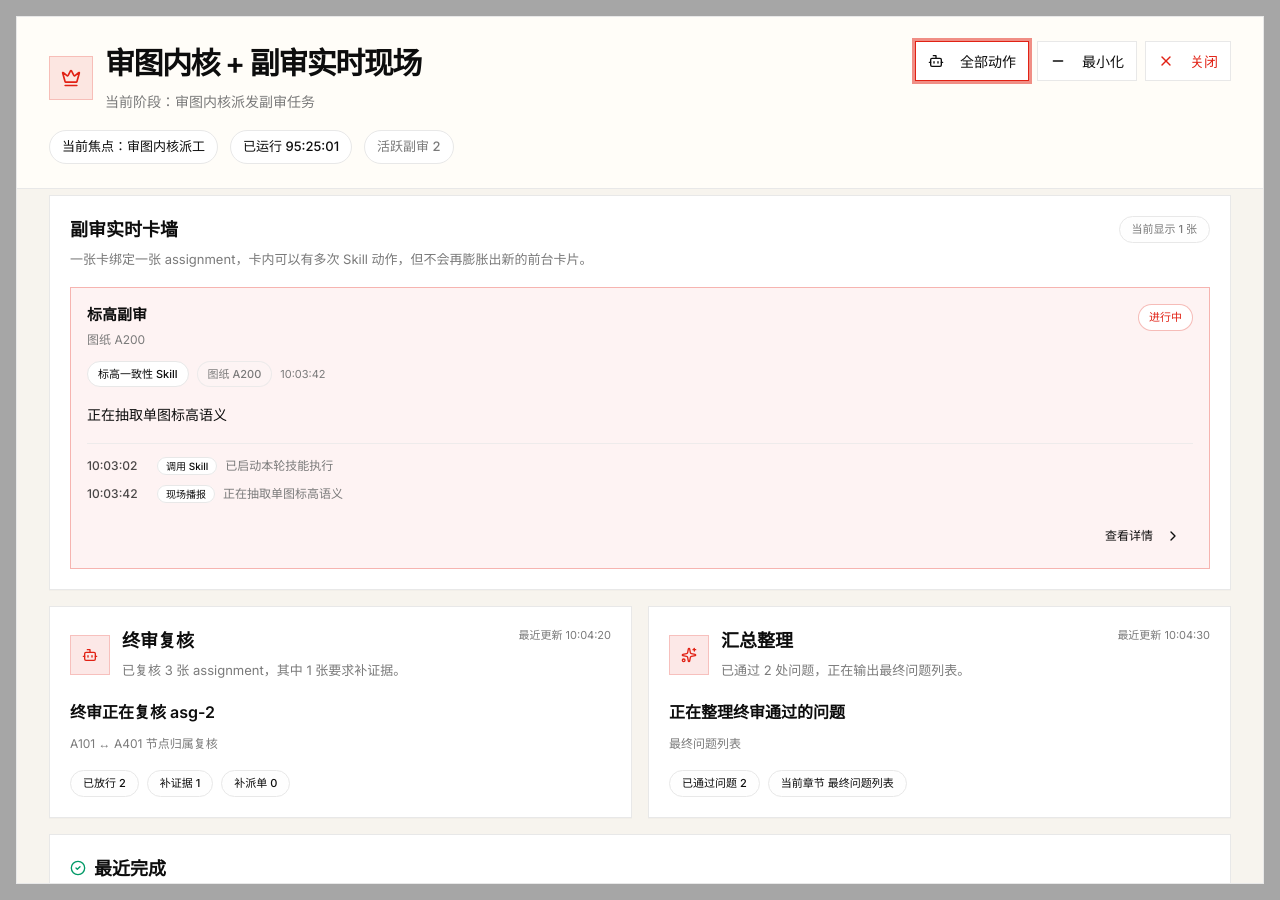
Test: AuditProgressDialog › opens filtered worker detail drawer from a worker card
(page scrolled)
Click the button "查看详情".
click(1143, 536)  # box [1093,520,1193,552]
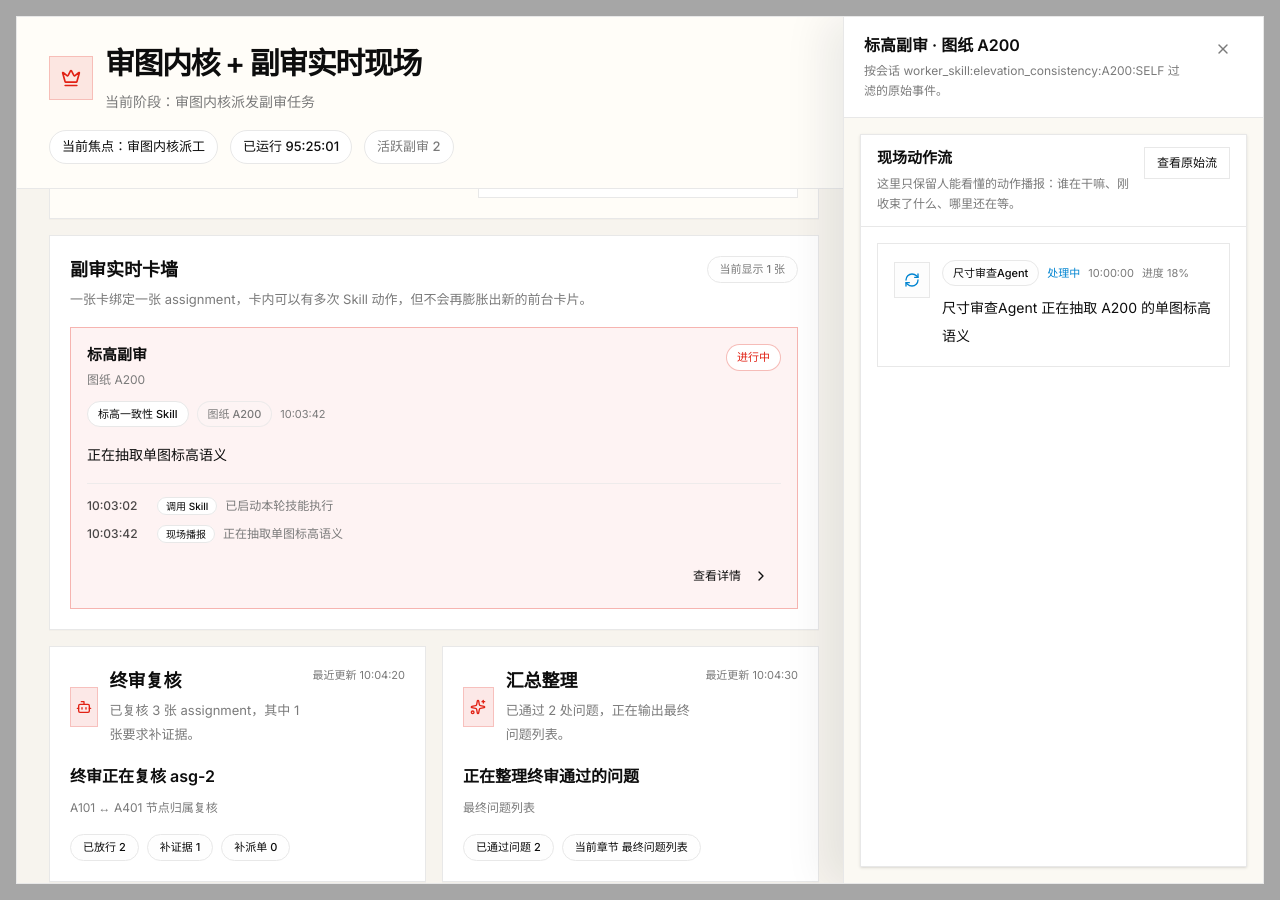
Result: the text "按会话 worker_skill:elevation_consistency:A200:SELF 过滤的原始事件。" is shown at [864,61,1187,101]
Result: the text "尺寸审查Agent 正在抽取 A200 的单图标高语义" is shown at [942,294,1213,350]
